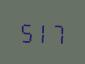five: (18, 19, 32, 43)
one: (34, 19, 48, 44)
seven: (49, 20, 63, 44)
